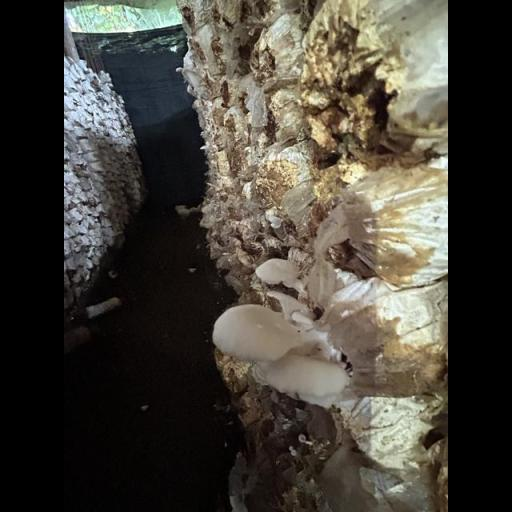White Oyster Mushroom: (215, 299, 352, 403)
